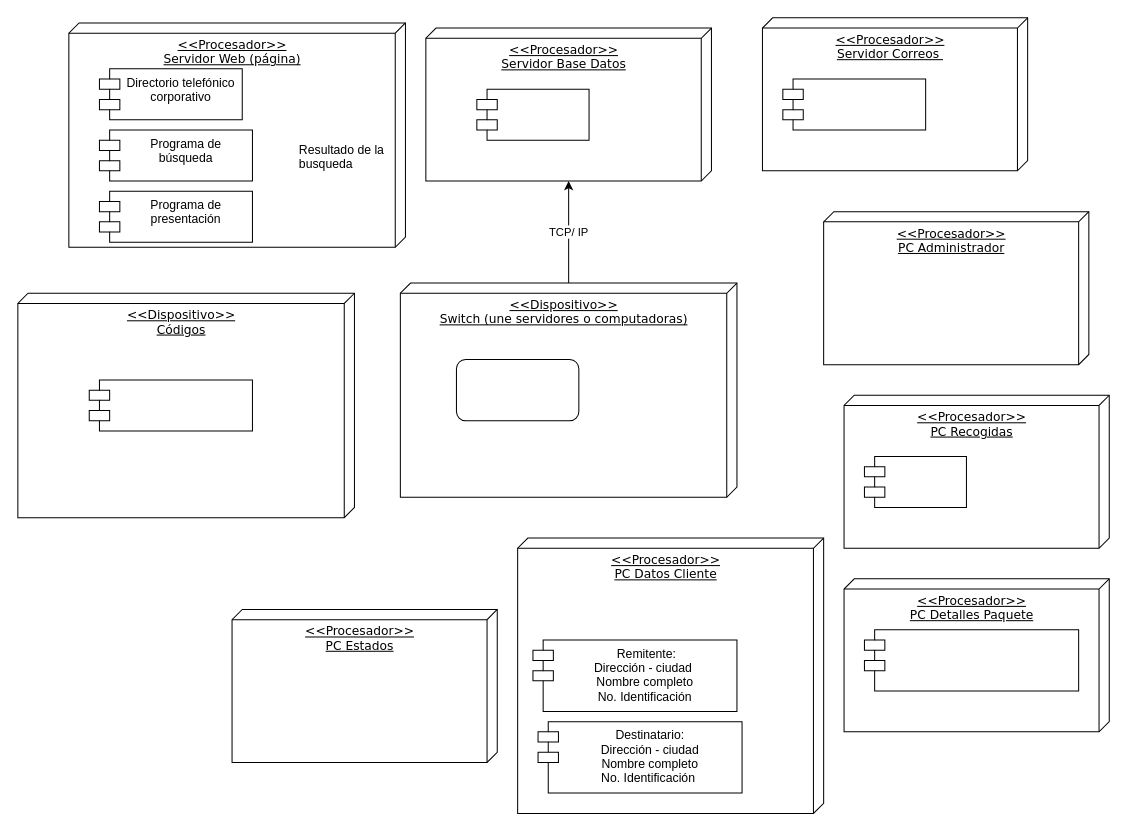
The diagram is 1127 pixels wide and 831 high, and some of its shapes have lost their labels. The centre of each missing label's shape, as x and y in pixels:
"3com 48 puertos" goes at point (517, 390).
"Contraseñas cifradas" goes at point (854, 104).
"Dimensiones ancho x alto x largo Peso aproximado Delicado o No" goes at point (971, 660).
"Fechas disponibles" goes at point (914, 481).
"Generador de códigos aleatorios" goes at point (170, 405).
"Usuarios" goes at point (532, 114).
